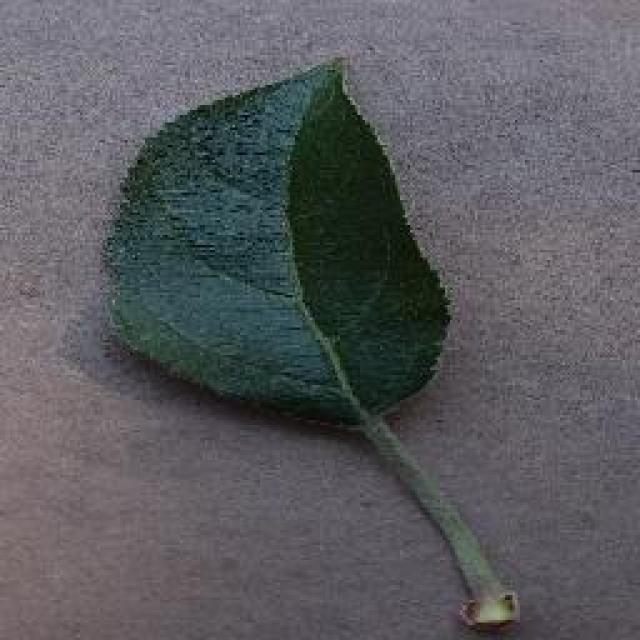apple healthy: (98, 52, 452, 428)
